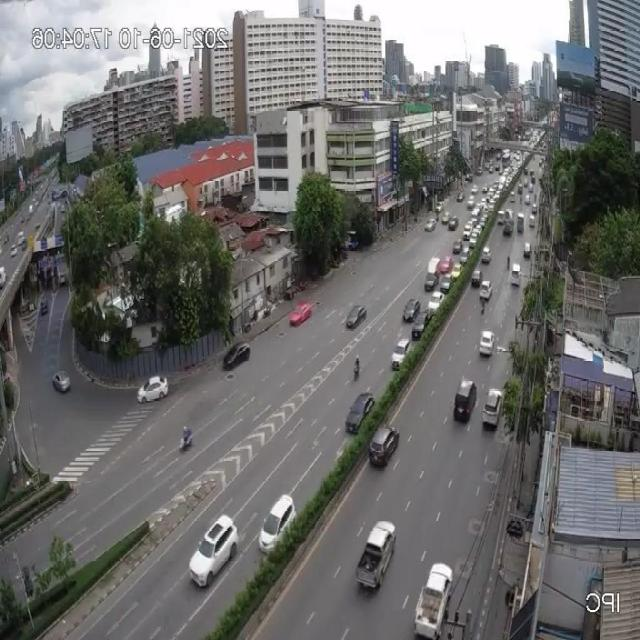Car: (189, 514, 239, 590), (355, 518, 397, 591), (414, 561, 453, 638), (258, 494, 296, 554), (368, 424, 401, 467), (346, 391, 376, 433), (453, 377, 478, 422), (136, 374, 168, 404), (482, 387, 504, 429), (223, 342, 251, 370), (289, 301, 313, 326), (391, 338, 410, 368), (345, 304, 367, 329), (412, 311, 429, 338), (479, 329, 495, 356), (402, 298, 420, 322), (52, 371, 70, 393), (427, 294, 442, 318), (436, 256, 453, 276), (479, 279, 493, 301), (424, 273, 438, 291), (439, 275, 453, 293), (470, 267, 482, 287), (450, 263, 462, 283), (511, 263, 521, 284), (481, 247, 491, 264), (463, 223, 473, 240), (424, 218, 436, 232), (452, 238, 462, 254), (460, 248, 469, 265), (468, 234, 478, 249), (448, 216, 458, 230), (440, 211, 450, 224), (523, 242, 531, 257), (434, 202, 444, 214), (528, 214, 536, 228), (456, 191, 465, 202), (531, 202, 538, 215), (524, 194, 530, 205), (509, 191, 515, 202)
Truck: (503, 209, 515, 236)
